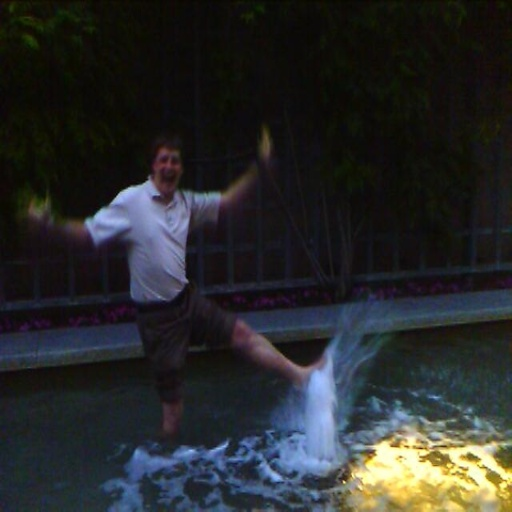hand: (188, 123, 263, 214), (17, 182, 54, 226)
